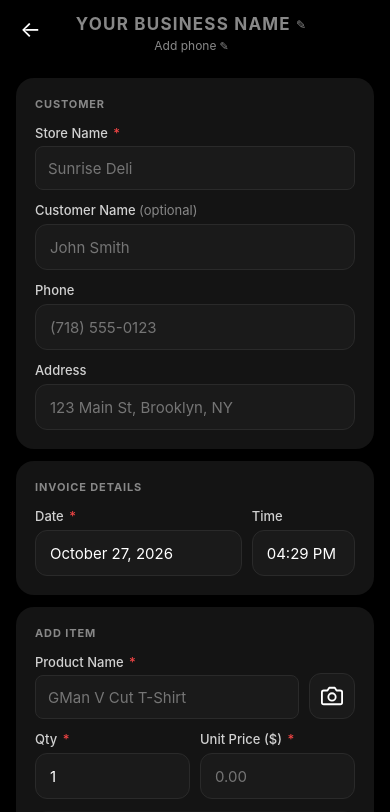
Test: NewInvoice — Is this it? › typing shows other drivers’ names in the suggestions
The width and height of the screenshot is (390, 812).
Step 1. Type "mobil" into the field with placeholder "GMan V Cut T-Shirt" → (167, 697), box [35,675,299,719]
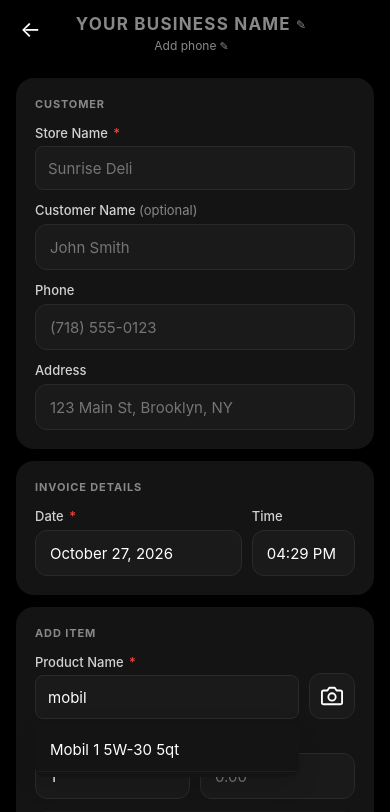
Expected: the list item "Mobil 1 5W-30 5qt" is shown, [36,728,298,772]
